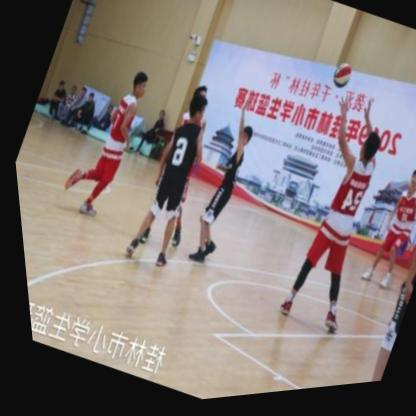basketball: (325, 65, 354, 100)
